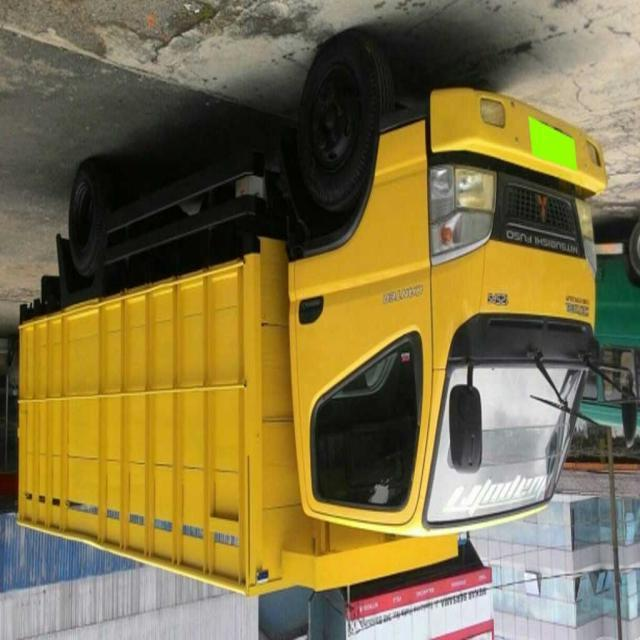truck: (12, 42, 640, 600)
